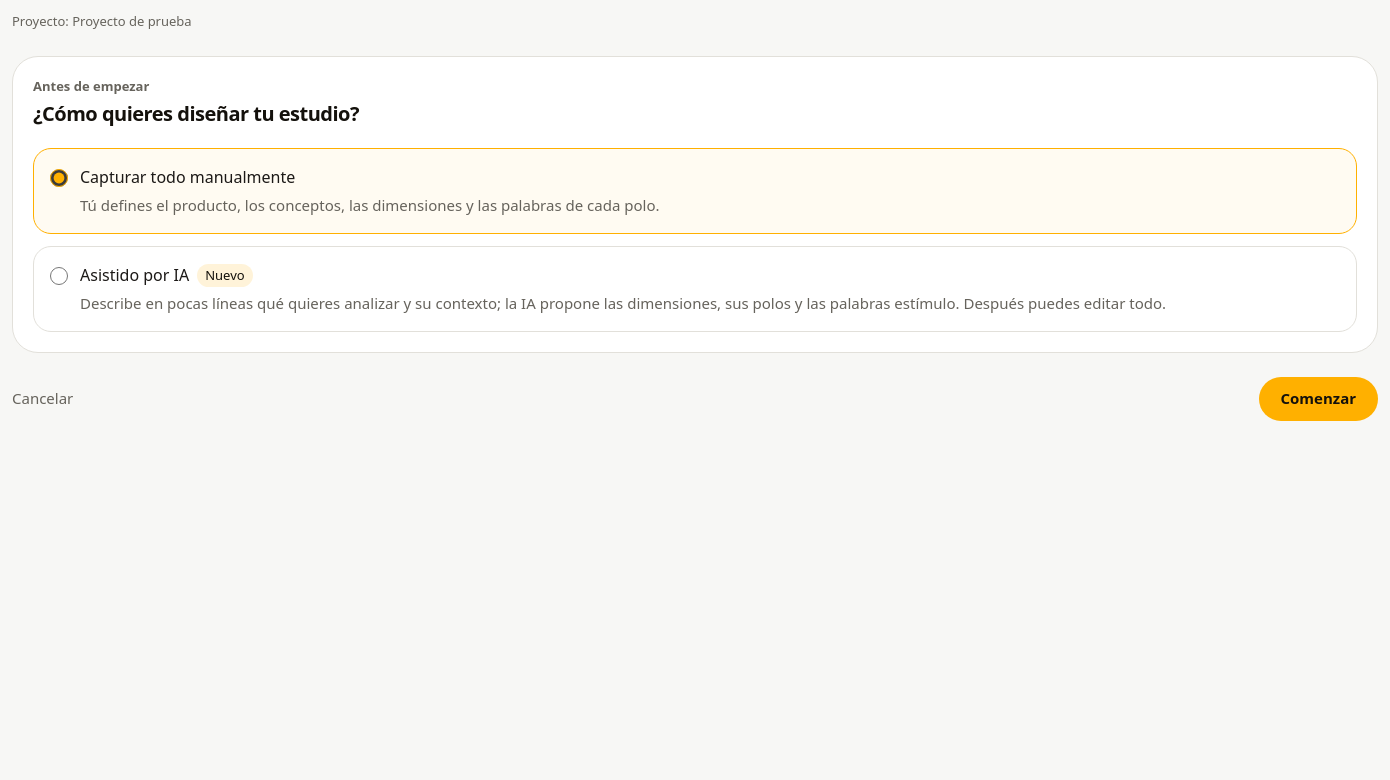
Wizard IAT › modo asistido por IA › muestra el error de la IA y deja continuar manualmente
Click the radio button labelled "Asistido por IA" at (59, 276), box 50,267 -> 68,285
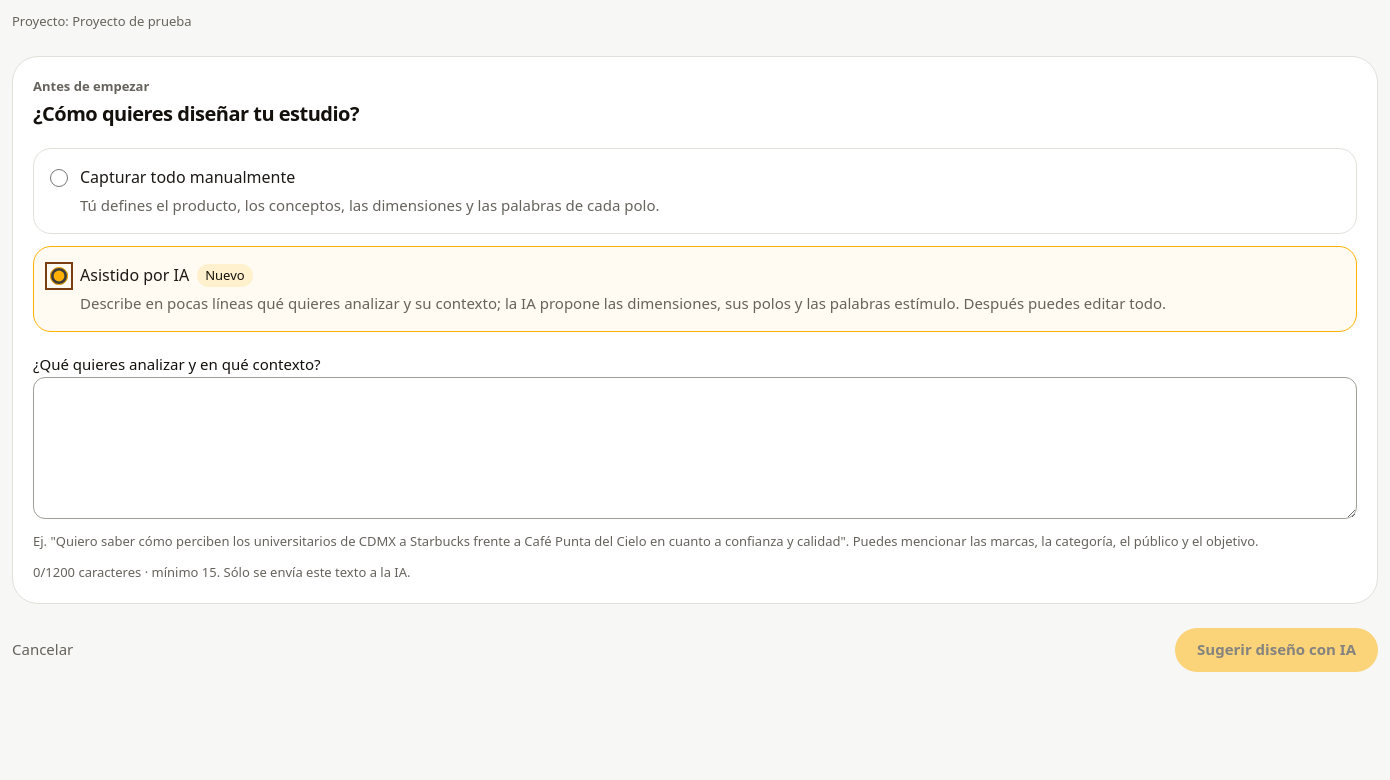
Type "Quiero analizar bancos digitales en México" into the text box labelled "¿Qué quieres analizar y en qué contexto?" at (695, 448), box 33,377 -> 1357,519
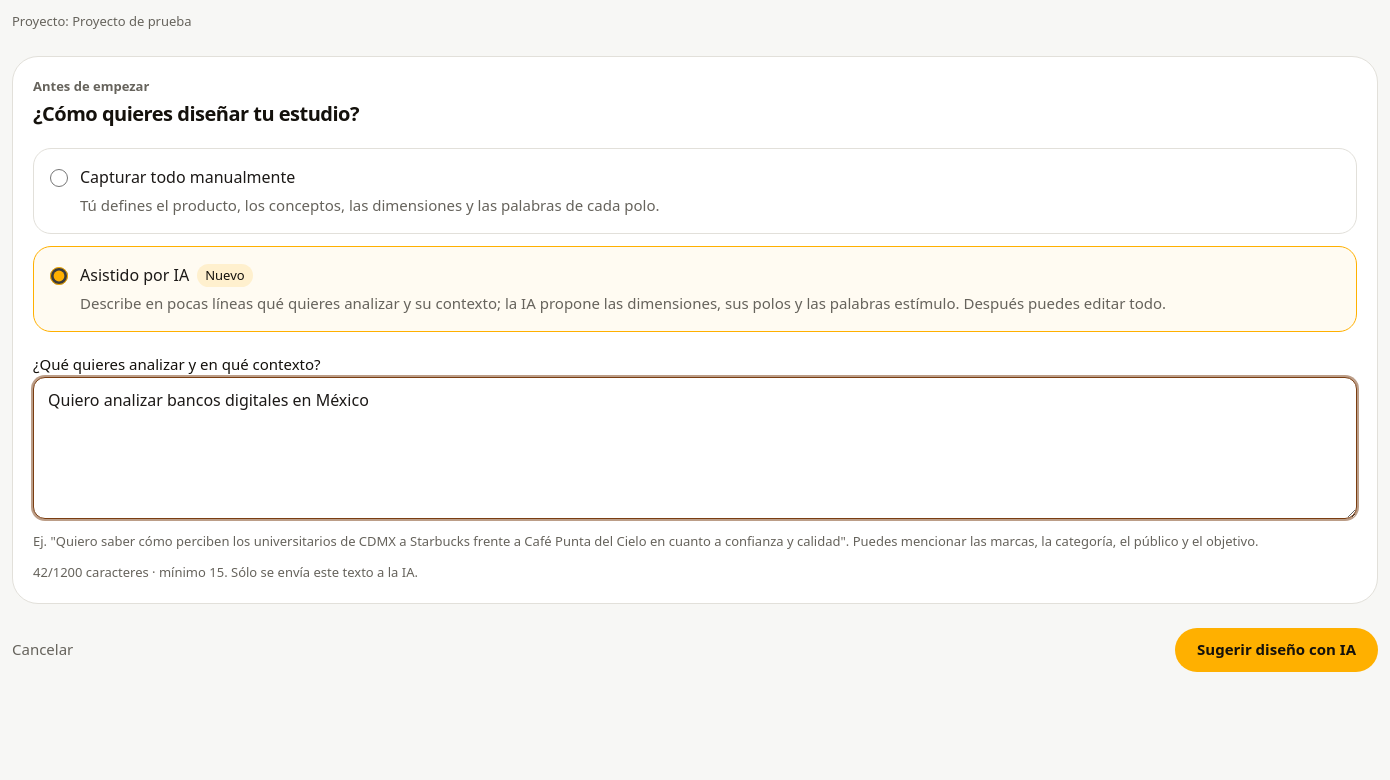
Click the button "Sugerir diseño con IA" at (1276, 650), box 1175,628 -> 1378,672
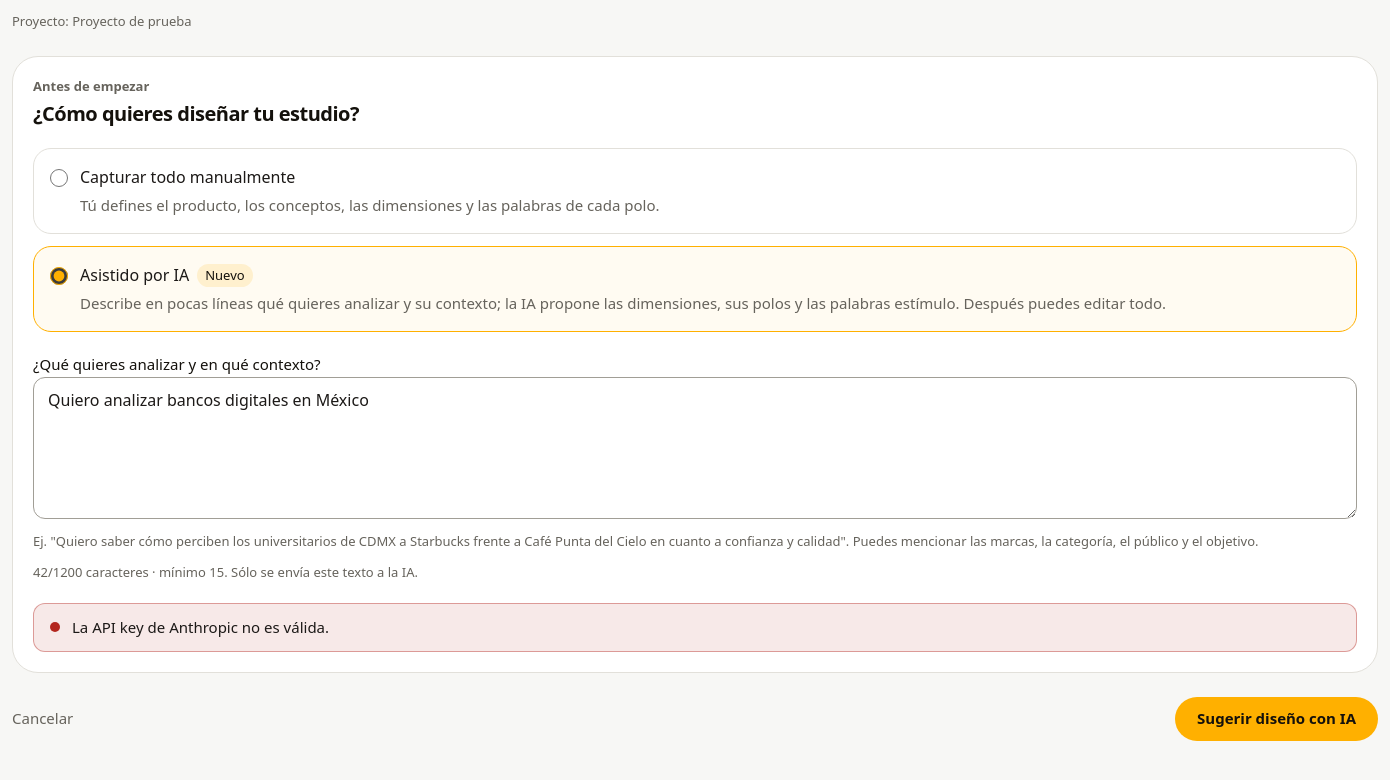
Expected: the text "La API key de Anthropic no es válida." is shown, 72,616 -> 329,639
Click the radio button labelled "Capturar todo manualmente" at (59, 178), box 50,169 -> 68,187
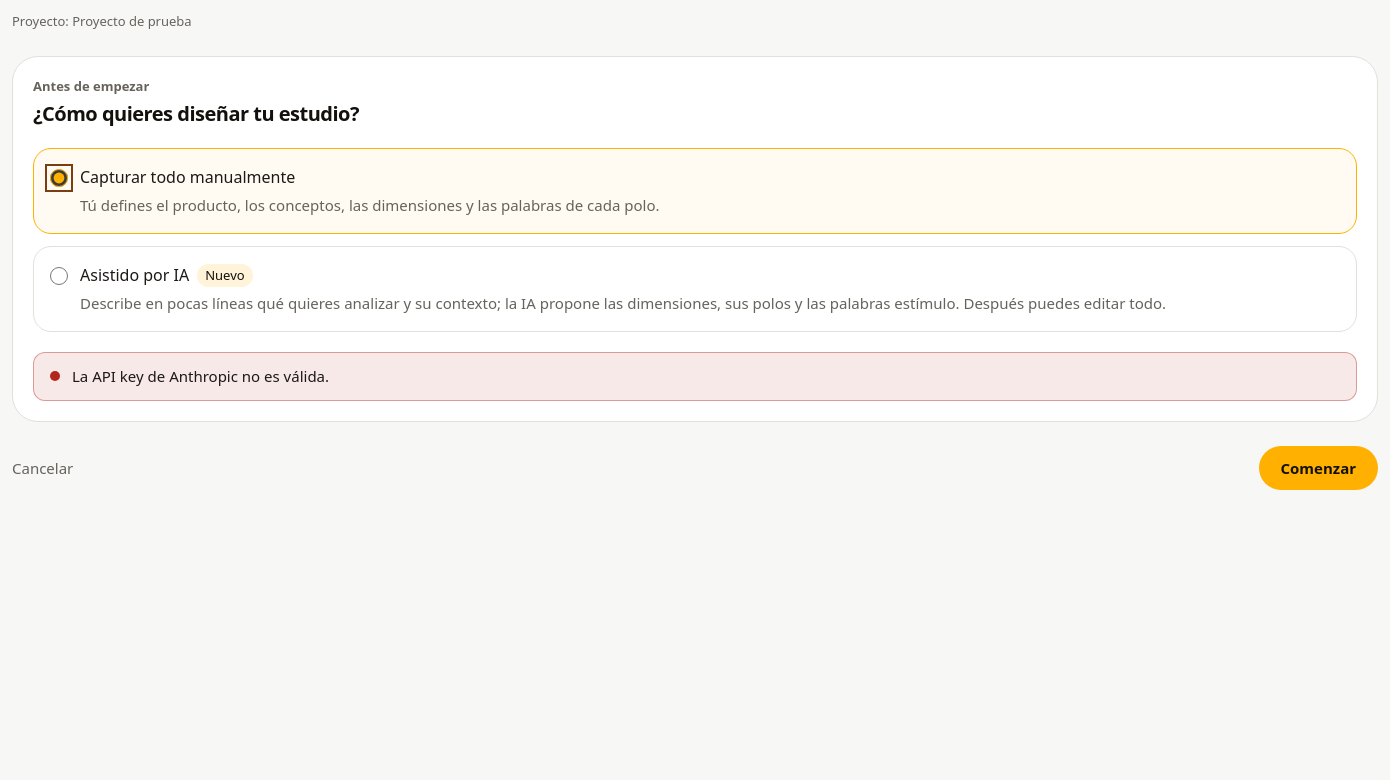
Click the button "Comenzar" at (1318, 468), box 1258,446 -> 1378,490
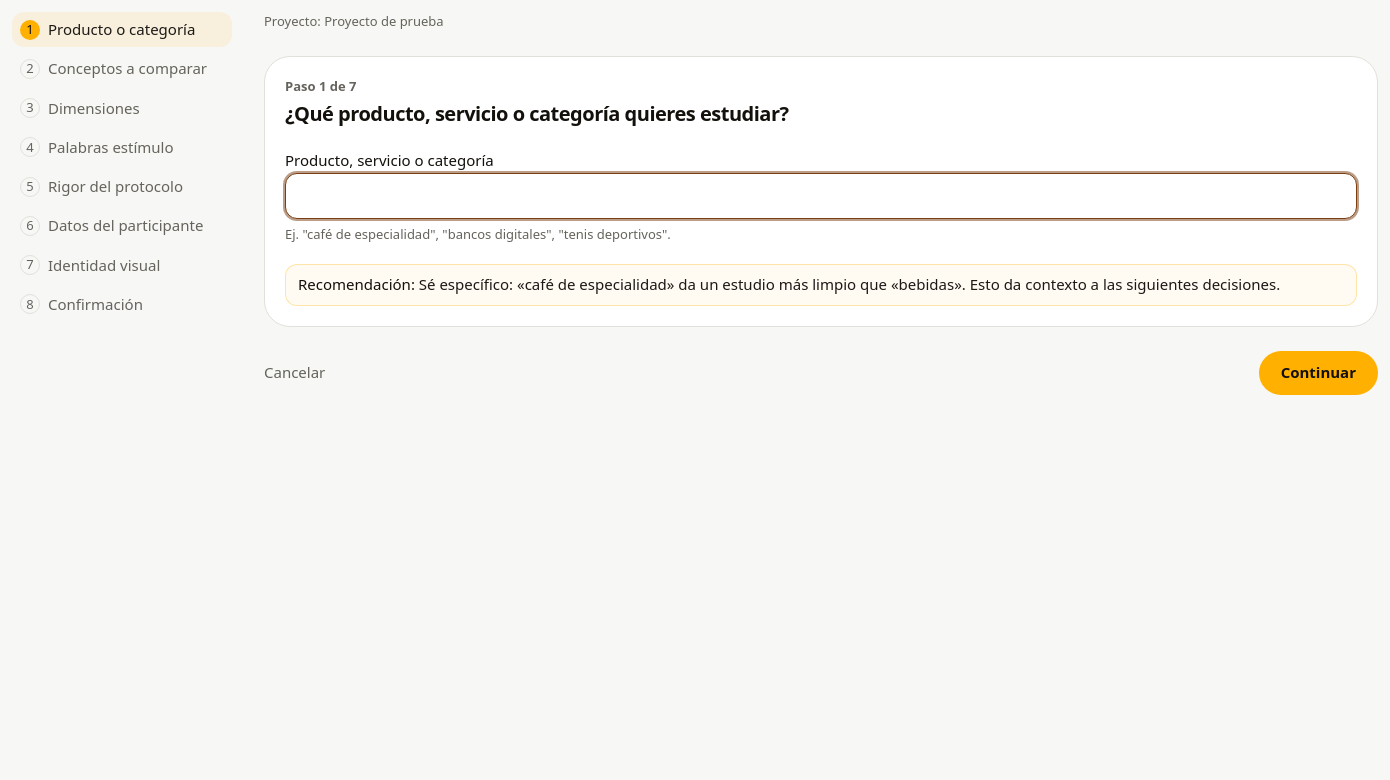
Expected: the field labelled "Producto, servicio o categoría" is shown, 285,173 -> 1357,219
